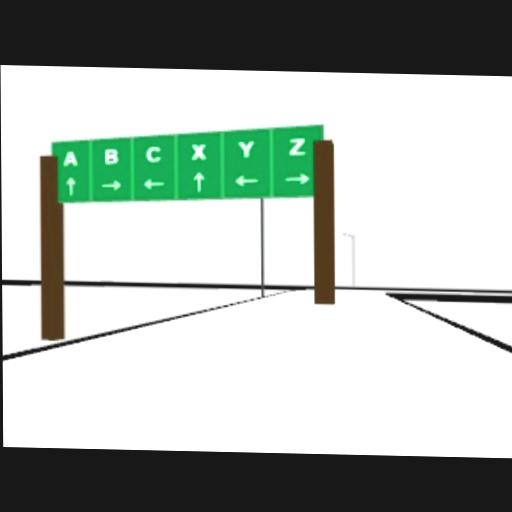A: (63, 150, 80, 167)
B: (104, 148, 119, 165)
C: (145, 145, 162, 162)
Left: (233, 174, 259, 187), (141, 177, 165, 190)
Right: (285, 172, 312, 185), (100, 178, 122, 191)
Straight: (191, 170, 208, 195), (65, 174, 78, 197)
X: (191, 143, 206, 160)
Y: (236, 140, 256, 157)
Z: (287, 136, 307, 155)
